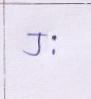anusvara: (52, 36, 56, 39)
